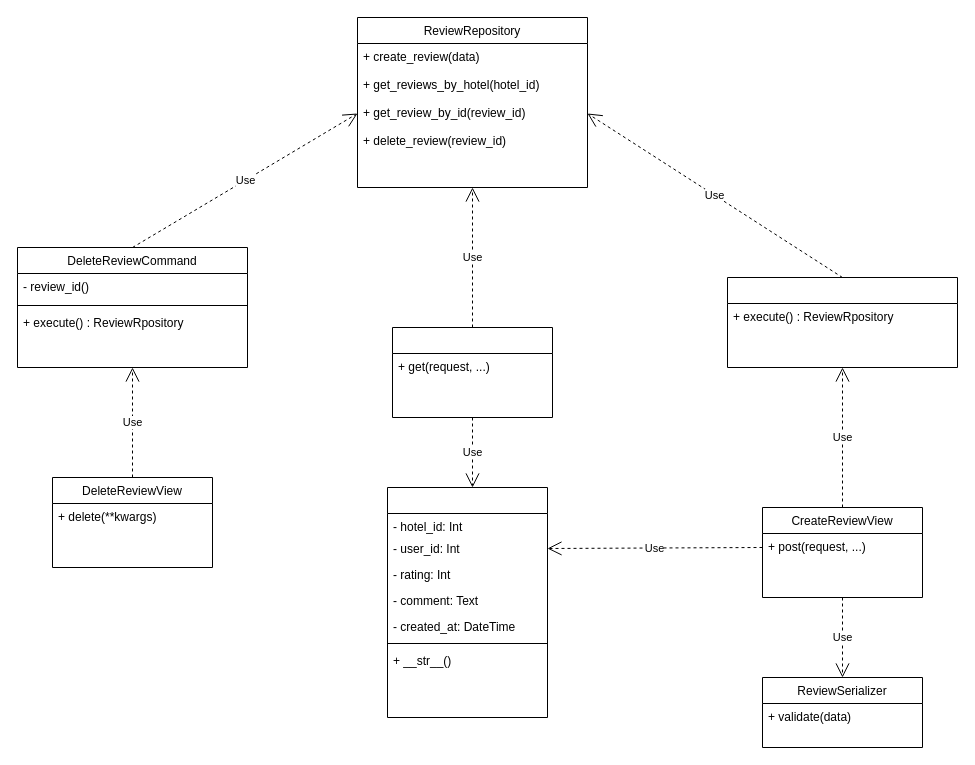
Image size: 975x765. Some labels were removed from this diagram. The shapes that lost their labels are listed below. From the top down, each one's box as (x1, y1, x2, y2) in pixels, then its label:
(726, 276, 958, 368): CreateReviewCommand
(392, 326, 552, 418): ListReviewView
(386, 486, 548, 718): ReviewModel
